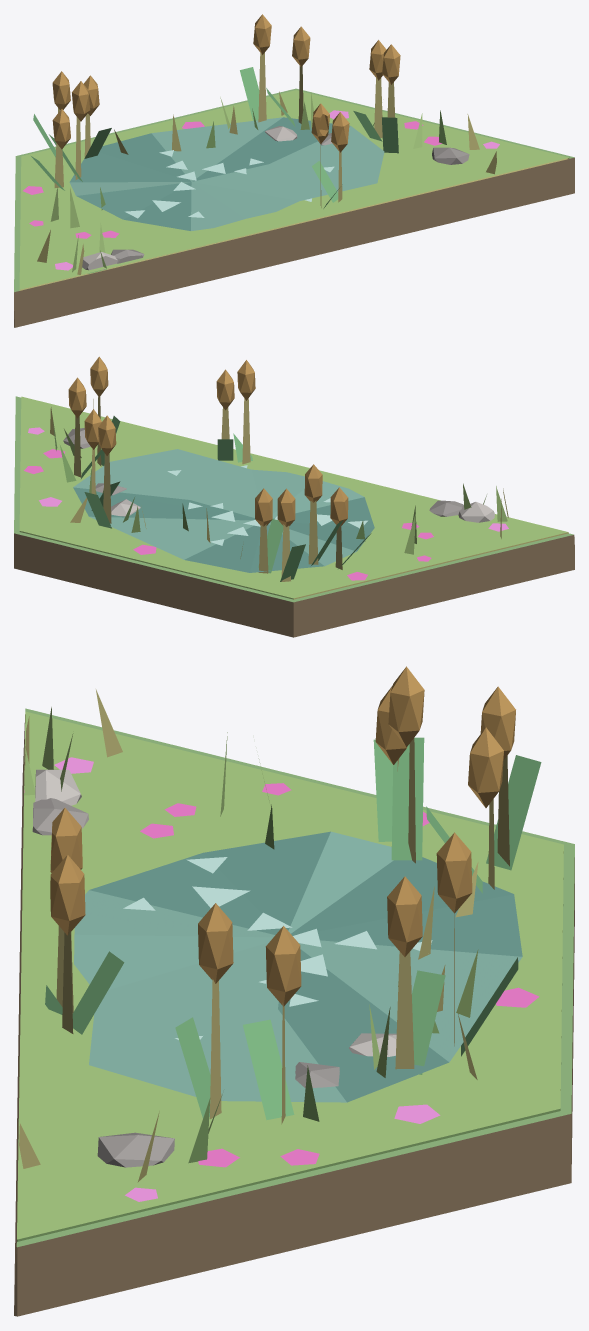
File: grass split tile.glb
The picture shows the model from 3 angles, top to bottom: view 1: azimuth 30°, elevation 25°; view 2: azimuth 150°, elevation 25°; view 3: azimuth 270°, elevation 25°; orthographic projection. The views are drawn at different scales.
Visible parts, largest first — view 1: GrassTerrain, HexBase, WaterPool, Reed_Leaf.008, Reed_Leaf.005, Stone_27, Reed_Head.006, Reed_Head.005, Reed_Head.007, Reed_Head.008, Reed_Head.009, Reed_Head.003 (+7 smaller); view 2: GrassTerrain, HexBase, WaterPool, Reed_Head, Reed_Leaf.001, Reed_Head.003, Reed_Head.002, Stone_20, Reed_Head.001, Reed_Head.006, Reed_Head.005, Reed_Head.004 (+12 smaller); view 3: GrassTerrain, WaterPool, HexBase, Reed_Leaf.002, Reed_Leaf.004, Reed_Leaf, Reed_Head.008, Reed_Head.004, Reed_Head.006, Reed_Head.009, Reed_Head.005, Stone_27 (+17 smaller).
Boxes of the visible parts, x1,y1,x2,y2 form: GrassTerrain: [19, 90, 569, 290]; HexBase: [14, 88, 574, 327]; WaterPool: [69, 117, 384, 230]; Reed_Leaf.008: [240, 67, 259, 120]; Reed_Leaf.005: [382, 117, 398, 153]; Stone_27: [432, 147, 469, 164]; Reed_Head.006: [331, 112, 349, 152]; Reed_Head.005: [382, 44, 400, 84]; Reed_Head.007: [311, 103, 329, 143]; Reed_Head.008: [253, 14, 271, 54]; Reed_Head.009: [292, 26, 310, 66]; Reed_Head.003: [52, 109, 70, 149]; GrassTerrain: [19, 396, 568, 599]; HexBase: [14, 396, 574, 637]; WaterPool: [73, 449, 374, 572]; Reed_Head: [277, 488, 295, 526]; Reed_Leaf.001: [258, 519, 283, 573]; Reed_Head.003: [330, 487, 348, 525]; Reed_Head.002: [304, 464, 322, 502]; Stone_20: [458, 502, 494, 522]; Reed_Head.001: [255, 488, 272, 526]; Reed_Head.006: [216, 369, 234, 410]; Reed_Head.005: [90, 356, 108, 397]; Reed_Head.004: [68, 377, 86, 418]; GrassTerrain: [17, 711, 563, 1241]; WaterPool: [74, 831, 522, 1102]; HexBase: [14, 708, 574, 1316]; Reed_Leaf.002: [391, 737, 424, 860]; Reed_Leaf.004: [243, 1019, 294, 1120]; Reed_Leaf: [486, 755, 541, 870]; Reed_Head.008: [436, 832, 472, 913]; Reed_Head.004: [265, 926, 301, 1006]; Reed_Head.006: [50, 854, 85, 935]; Reed_Head.009: [387, 876, 422, 956]; Reed_Head.005: [198, 903, 233, 983]; Stone_27: [97, 1132, 174, 1167].
Bounding box in the file's own units: 5 × 1.25 × 2.2.
